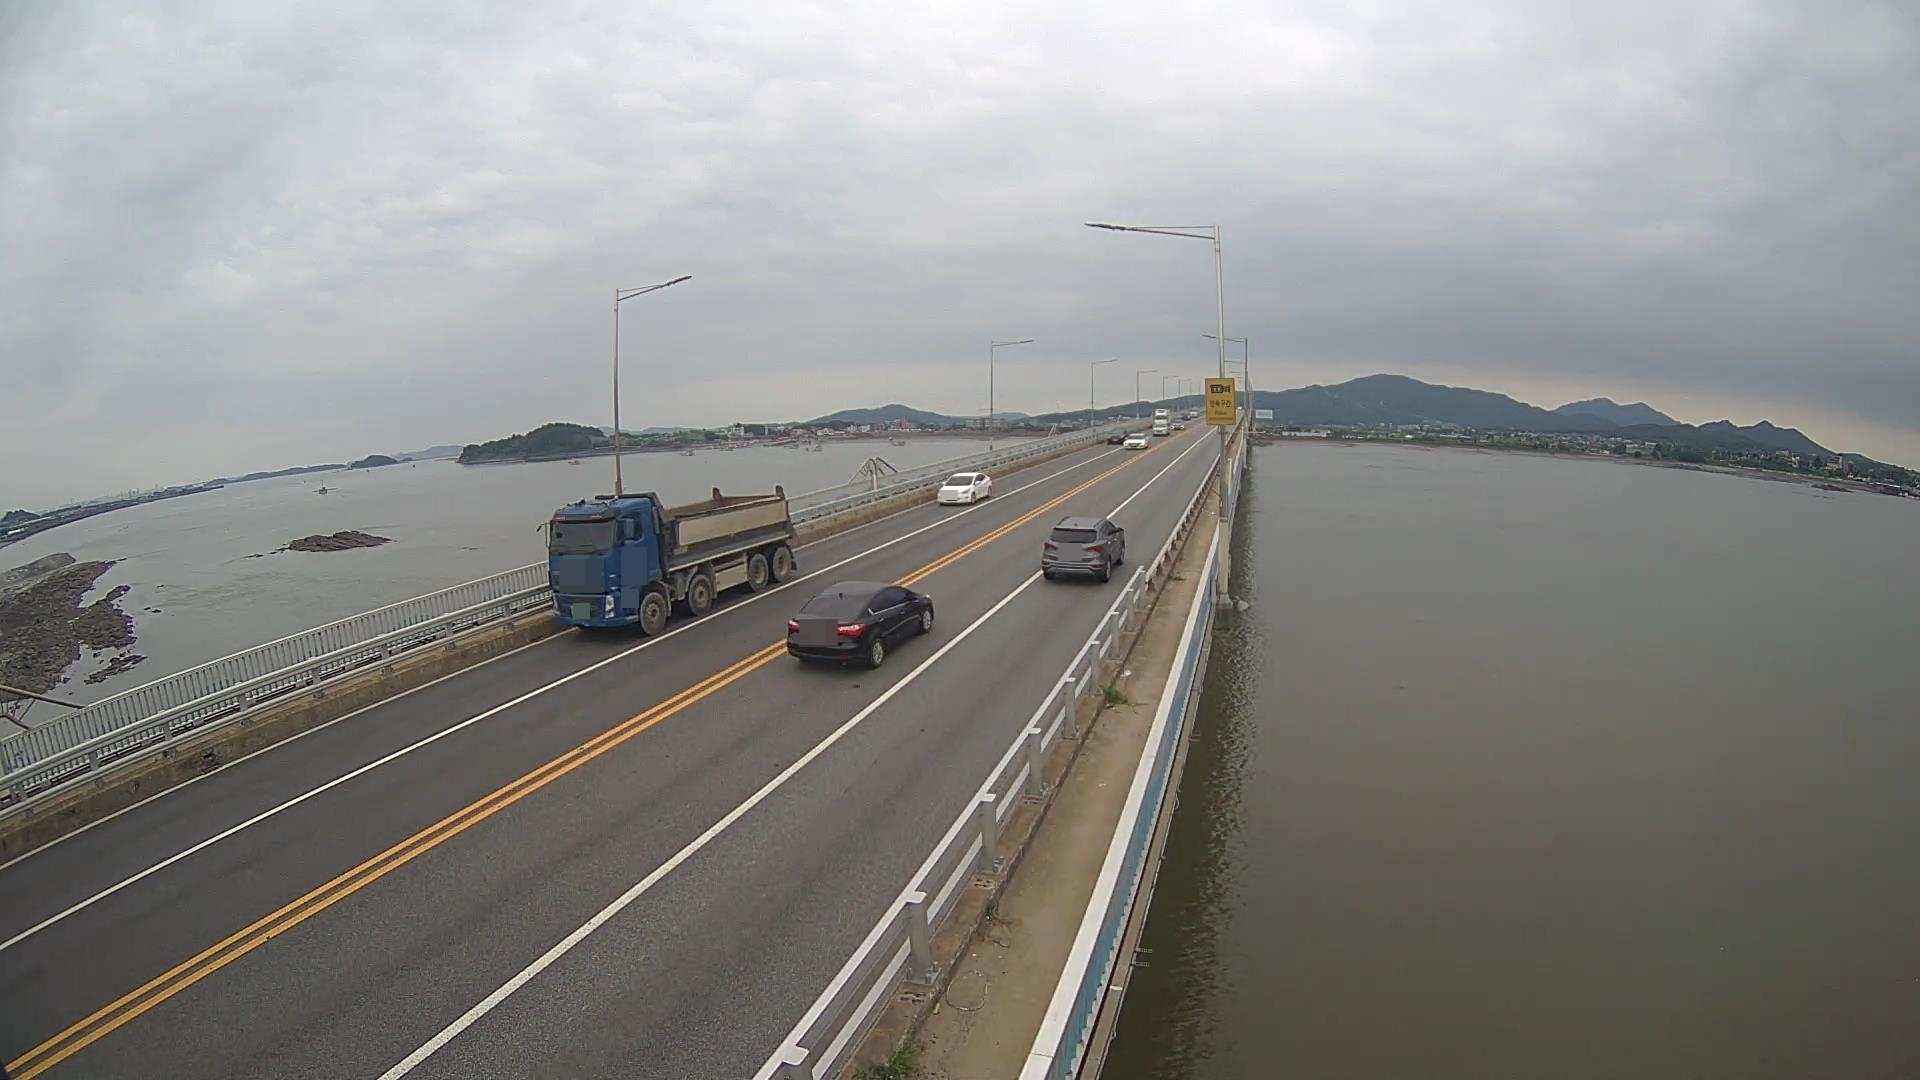정상차량: (535, 485, 798, 636)
